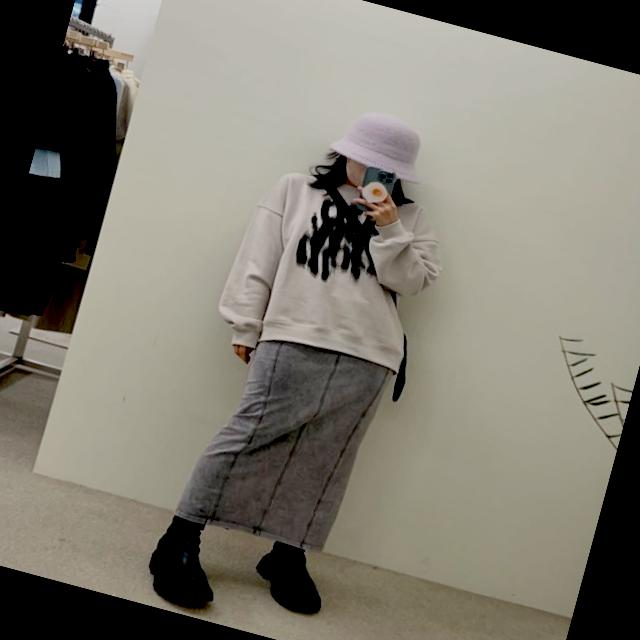mtm: (214, 156, 463, 396)
skirt: (172, 318, 392, 562)
